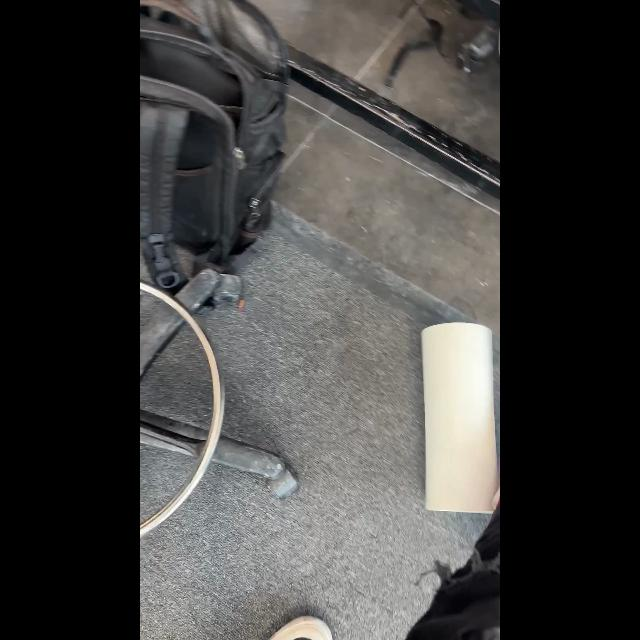CORAL: (420, 321, 498, 513)
